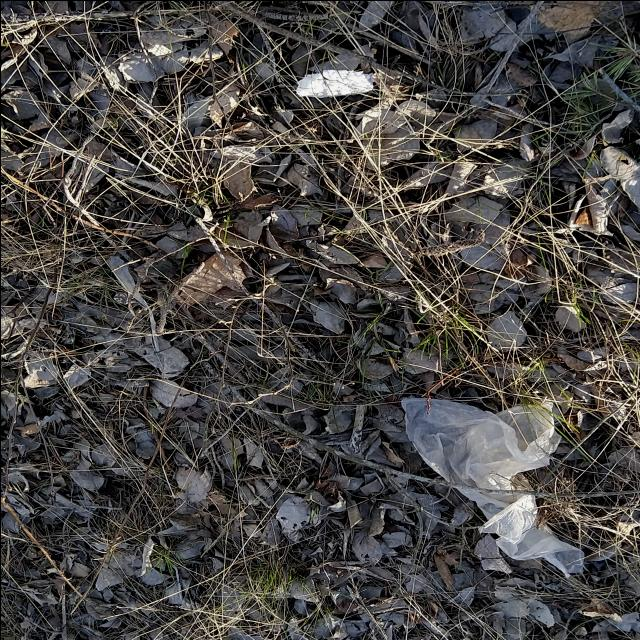Plastic film: (401, 397, 583, 578)
